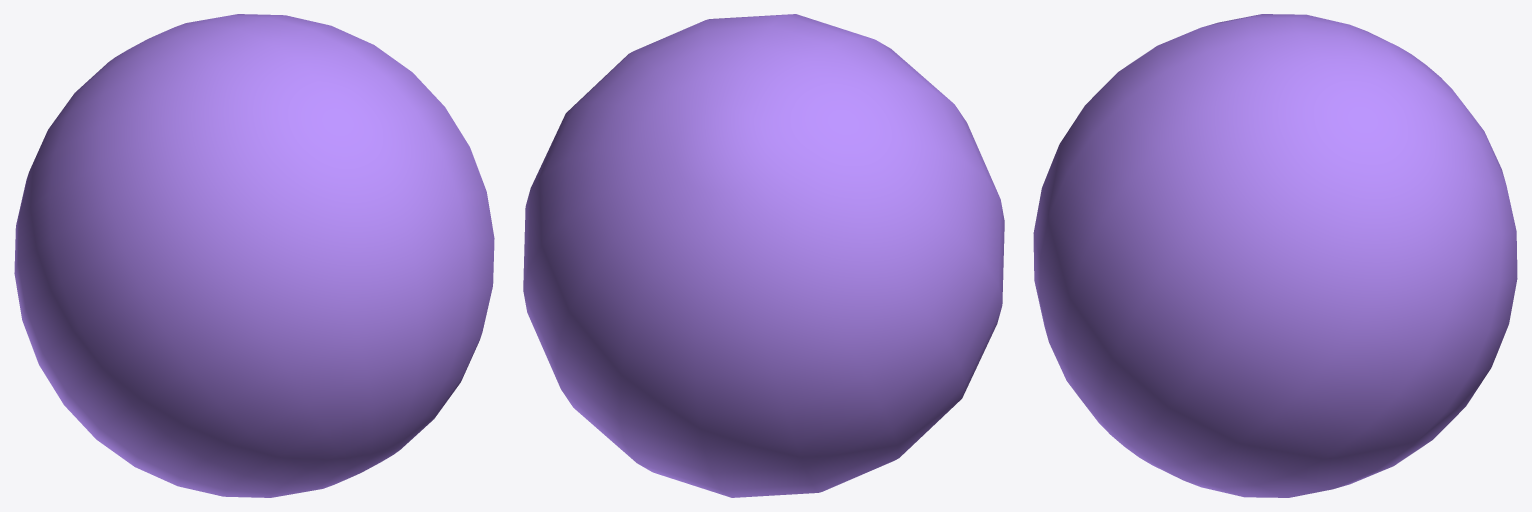
3 views of the same model, side by side, from view 1: azimuth 30°, elevation 25°; view 2: azimuth 150°, elevation 25°; view 3: azimuth 270°, elevation 25° (orthographic).
Visible parts, largest first — view 1: orb7.002; view 2: orb7.002; view 3: orb7.002.
Boxes of the visible parts, left/top/right/bottom form: orb7.002: left=14, top=14, right=494, bottom=497; orb7.002: left=523, top=14, right=1004, bottom=497; orb7.002: left=1033, top=14, right=1517, bottom=497.
Size of the model in its own units: 0.3929 by 0.3982 by 0.3978.
